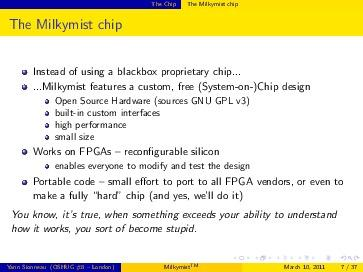paragraph: (8, 59, 357, 245)
subtitle: (2, 255, 340, 272)
title: (8, 16, 137, 35)
